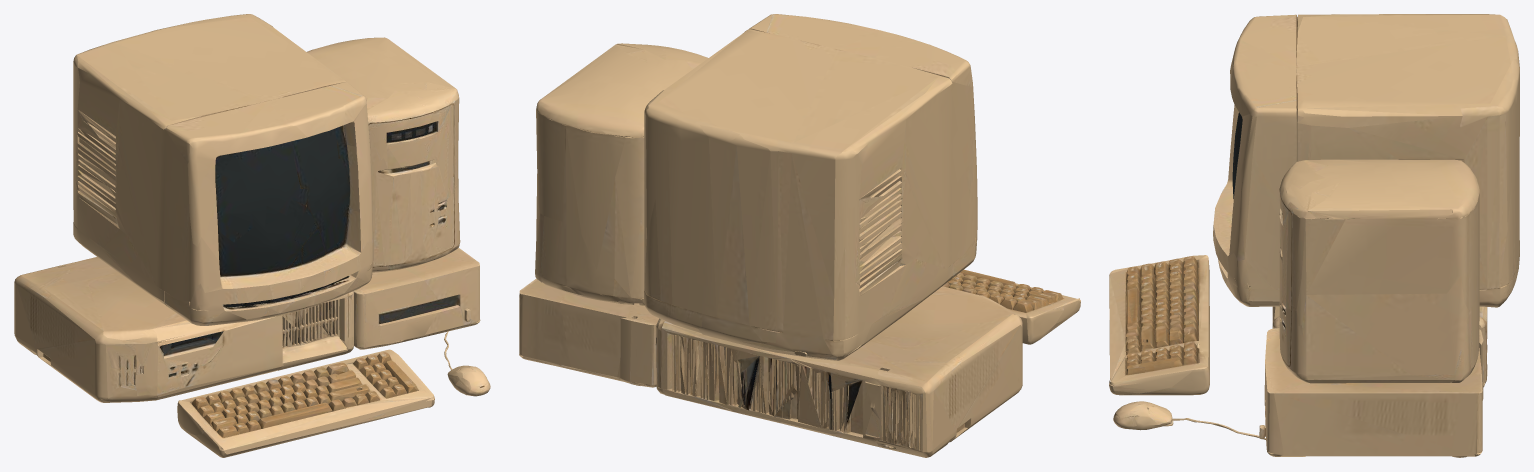
File: os-computer.glb
3 renders of one model, left to right at view 1: azimuth 30°, elevation 25°; view 2: azimuth 150°, elevation 25°; view 3: azimuth 270°, elevation 25°, orthographic. The views are drawn at different scales.
Bounding box in the file's own units: 1.9 × 1.31 × 1.69.
Materials: 1 (1 with a texture image).
